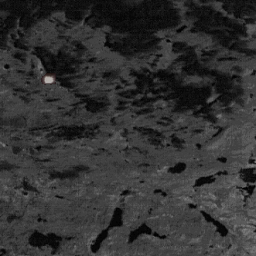Target: (42, 75, 55, 83)
